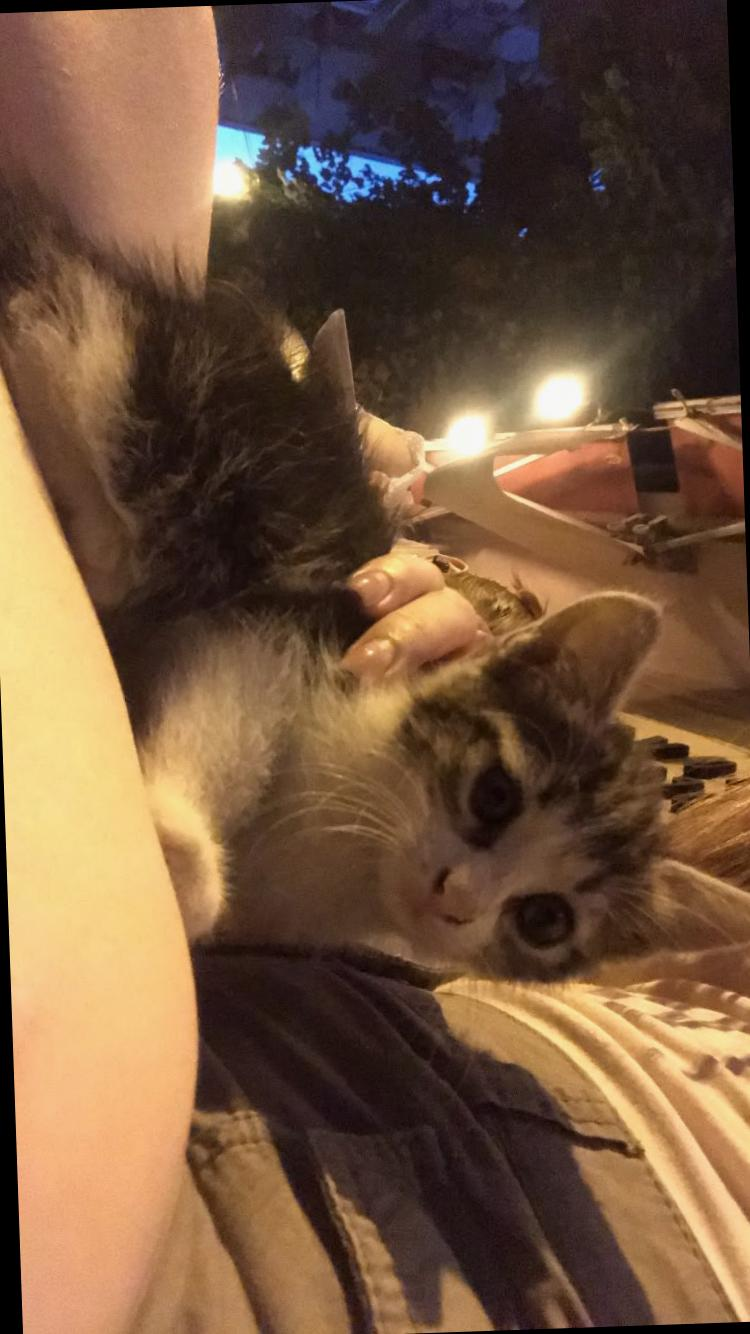macka: (0, 141, 750, 1001)
